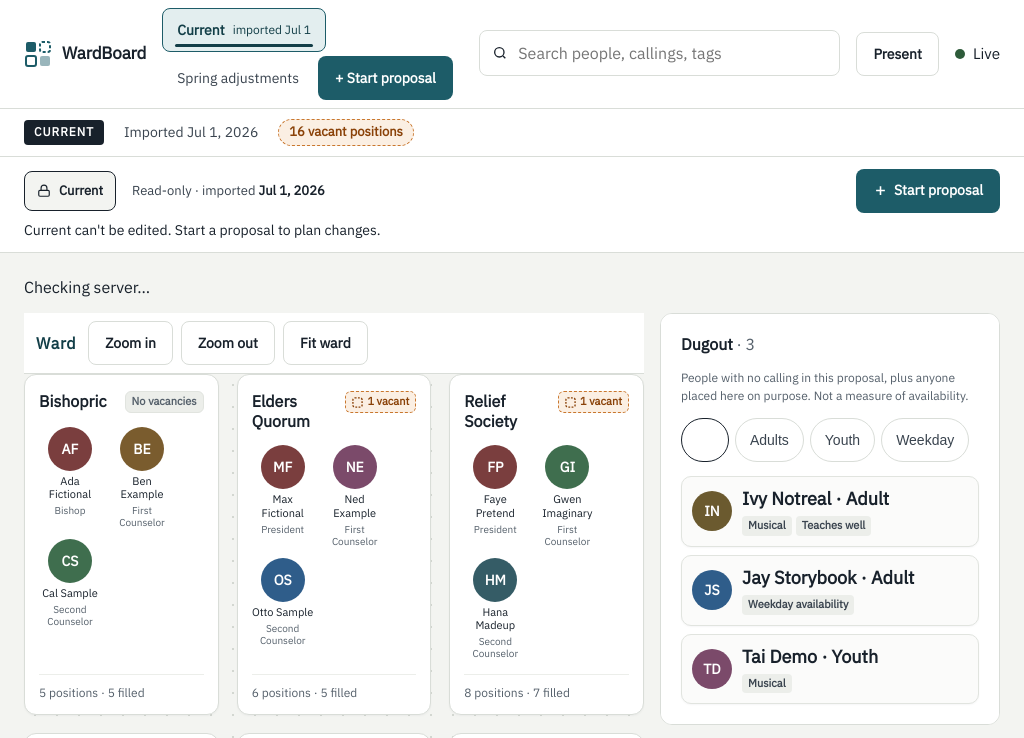
Scenario: T-088 member tags › the person panel has exactly one heading with the member name
Click the tab "Spring adjustments": (238, 78) 162,56 -> 314,100
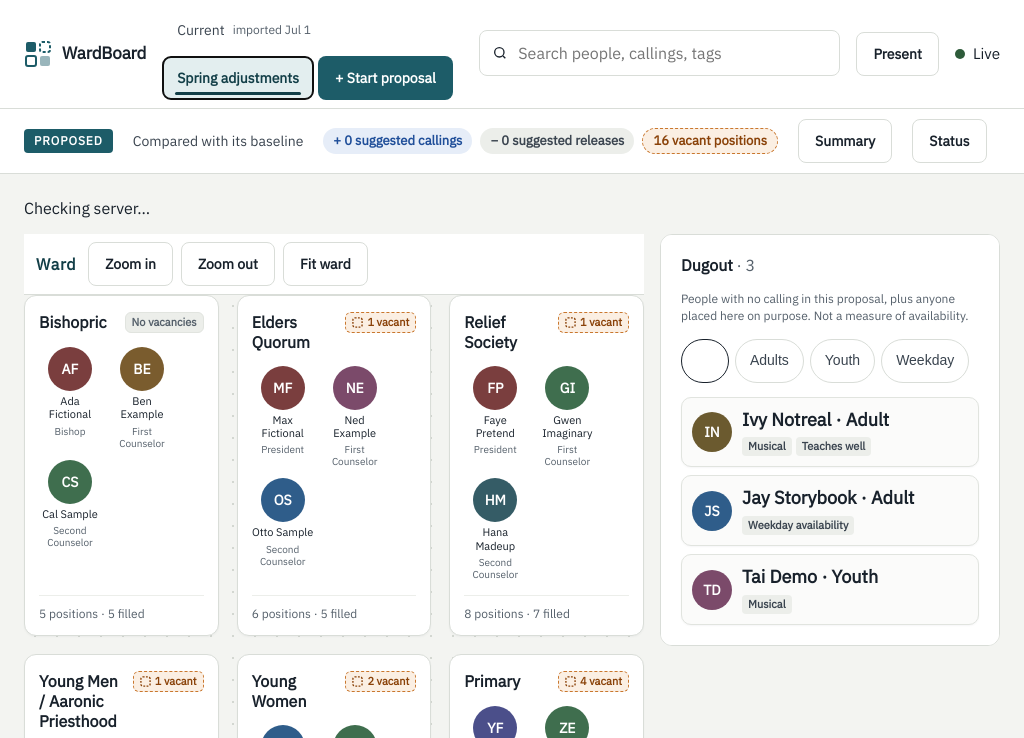
Click the element showing "IA Ivy Notreal · Adult Musical Teaches well": (830, 432) 681,397 -> 979,467
(page scrolled)
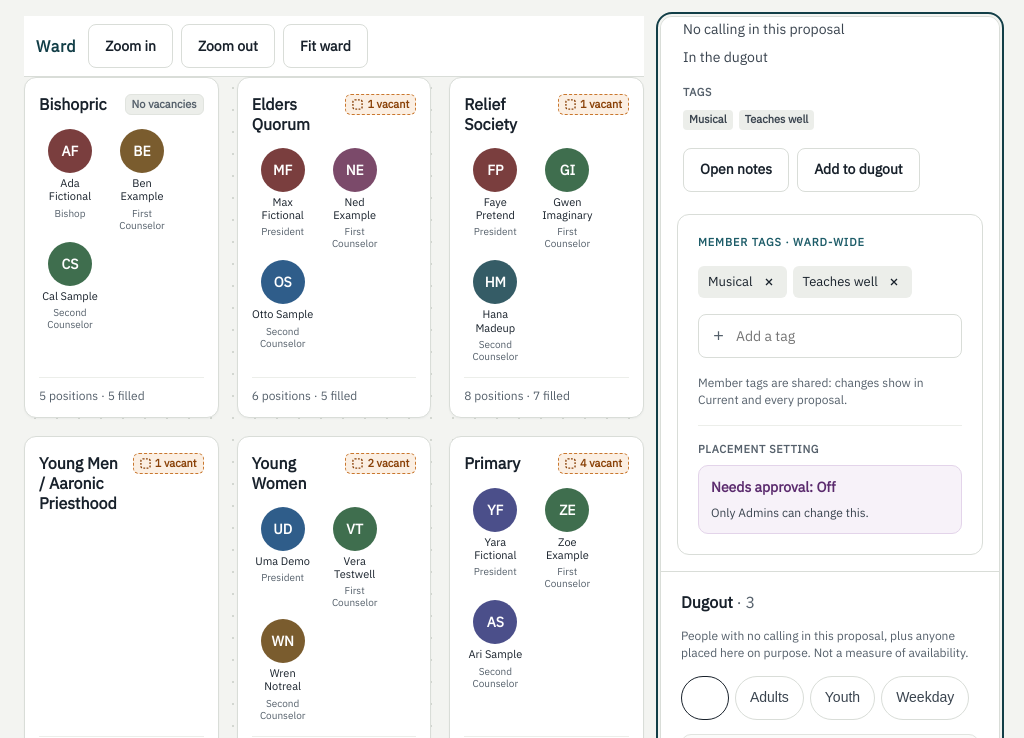
expect the element "MEMBER TAGS" is shown: met, box 677,214 -> 983,555
